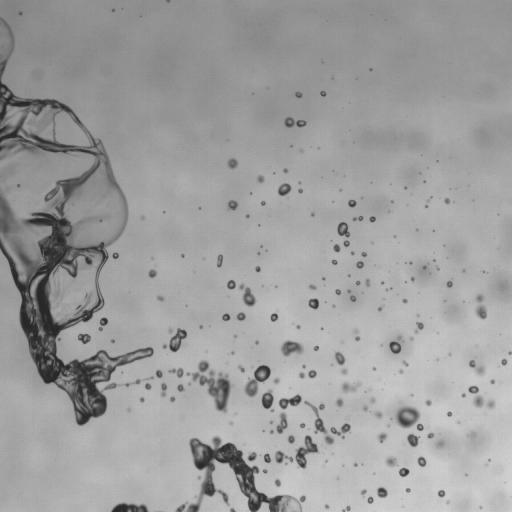droplet: (389, 406, 429, 431), (162, 327, 188, 352), (280, 339, 304, 356), (468, 359, 485, 377), (406, 432, 420, 447), (277, 182, 291, 196), (337, 222, 350, 237), (384, 455, 399, 467), (388, 341, 401, 354), (376, 486, 388, 498), (308, 298, 319, 310), (78, 333, 90, 344), (227, 158, 238, 169), (376, 432, 387, 443), (14, 88, 25, 99), (5, 151, 16, 162), (83, 154, 94, 165), (69, 167, 80, 178), (275, 173, 286, 184), (4, 175, 15, 186), (4, 193, 15, 204), (37, 201, 48, 212), (409, 264, 420, 275), (355, 268, 366, 279), (232, 287, 243, 298), (10, 289, 21, 300), (10, 316, 21, 327), (75, 321, 86, 332), (17, 333, 28, 344), (301, 340, 312, 351), (229, 355, 240, 366), (26, 360, 37, 371), (138, 368, 149, 379), (166, 374, 177, 385), (150, 377, 161, 388), (256, 381, 267, 392), (227, 388, 238, 399), (204, 395, 215, 406), (62, 398, 73, 409), (324, 398, 335, 409), (414, 401, 425, 412), (65, 409, 76, 420), (304, 414, 315, 425), (304, 424, 315, 435), (312, 432, 323, 443), (294, 436, 305, 447), (285, 445, 296, 456), (411, 445, 422, 456), (380, 446, 391, 457), (183, 453, 194, 464), (253, 456, 264, 467), (407, 460, 418, 471), (220, 462, 231, 473), (252, 474, 263, 485), (211, 476, 222, 487), (191, 480, 202, 491), (230, 485, 241, 496), (398, 467, 410, 477), (227, 200, 238, 210), (414, 322, 423, 334), (466, 430, 477, 439), (417, 456, 426, 467), (434, 439, 443, 449), (270, 310, 278, 321), (335, 397, 343, 408), (148, 269, 157, 278), (236, 312, 245, 321), (109, 160, 118, 169), (7, 200, 16, 209), (350, 206, 359, 215), (335, 235, 344, 244), (104, 245, 113, 254), (413, 258, 422, 267), (351, 286, 360, 295), (340, 291, 349, 300), (469, 300, 478, 309), (241, 304, 250, 313), (91, 311, 100, 320), (11, 312, 20, 321), (483, 370, 492, 379), (345, 374, 354, 383), (179, 375, 188, 384), (95, 381, 104, 390), (166, 386, 175, 395), (340, 391, 349, 400), (253, 392, 262, 401), (391, 421, 400, 430), (407, 424, 416, 433), (282, 427, 291, 436), (304, 451, 313, 460), (254, 482, 263, 491), (265, 489, 274, 498), (212, 492, 221, 501), (263, 453, 271, 463), (256, 174, 264, 183), (227, 280, 235, 289), (237, 364, 245, 373), (155, 369, 163, 378), (308, 369, 316, 378), (437, 489, 445, 498), (0, 158, 6, 169), (258, 505, 269, 511), (329, 505, 340, 511), (363, 505, 374, 511), (348, 199, 356, 207), (222, 313, 230, 321), (287, 435, 295, 443), (176, 384, 185, 391), (274, 478, 281, 487), (294, 91, 302, 98), (333, 244, 340, 252), (356, 261, 364, 268), (397, 334, 404, 342), (366, 495, 373, 503), (0, 34, 5, 45), (308, 284, 317, 290), (360, 489, 366, 498), (112, 252, 119, 259), (377, 304, 384, 311), (298, 371, 305, 378), (272, 377, 279, 384), (369, 396, 376, 403), (2, 68, 9, 75), (29, 92, 36, 99), (105, 148, 112, 155), (20, 149, 27, 156), (221, 161, 228, 168), (114, 176, 121, 183), (48, 181, 55, 188), (289, 187, 296, 194), (125, 196, 132, 203), (126, 200, 133, 207), (126, 215, 133, 222), (362, 216, 369, 223), (331, 251, 338, 258), (3, 263, 10, 270), (427, 263, 434, 270), (5, 271, 12, 278), (6, 274, 13, 281), (310, 291, 317, 298), (101, 292, 108, 299), (480, 299, 487, 306), (229, 313, 236, 320), (473, 315, 480, 322), (58, 329, 65, 336), (280, 335, 287, 342), (289, 335, 296, 342), (275, 348, 282, 355), (289, 350, 296, 357), (55, 351, 62, 358), (202, 354, 209, 361), (474, 359, 481, 366), (121, 363, 128, 370), (334, 363, 341, 370), (191, 365, 198, 372), (161, 369, 168, 376), (268, 372, 275, 379), (35, 375, 42, 382), (227, 376, 234, 383), (202, 382, 209, 389), (102, 389, 109, 396), (173, 390, 180, 397), (241, 392, 248, 399), (285, 392, 292, 399), (468, 392, 475, 399), (271, 399, 278, 406), (367, 402, 374, 409), (480, 403, 487, 410), (487, 407, 494, 414), (215, 409, 222, 416), (317, 409, 324, 416), (390, 410, 397, 417), (369, 414, 376, 421), (88, 415, 95, 422), (273, 417, 280, 424), (322, 421, 329, 428), (301, 428, 308, 435), (212, 429, 219, 436), (235, 443, 242, 450), (184, 446, 191, 453), (289, 450, 296, 457), (389, 450, 396, 457), (241, 453, 248, 460), (269, 453, 276, 460), (379, 456, 386, 463), (246, 460, 253, 467), (392, 465, 399, 472), (199, 467, 206, 474), (370, 490, 377, 497), (202, 494, 209, 501), (372, 494, 379, 501), (124, 497, 131, 504), (190, 497, 197, 504), (134, 499, 141, 506), (109, 500, 116, 507), (343, 240, 349, 248), (446, 279, 452, 287), (156, 295, 164, 301), (501, 358, 507, 366), (342, 505, 350, 511), (365, 278, 370, 287), (506, 355, 511, 364), (220, 506, 229, 511), (241, 506, 250, 511), (444, 197, 450, 204), (330, 259, 337, 265), (334, 289, 341, 295), (425, 399, 431, 406), (299, 422, 306, 428), (427, 432, 434, 438), (168, 326, 173, 334), (320, 91, 326, 97), (369, 216, 375, 222), (254, 266, 260, 272), (313, 345, 319, 351), (446, 411, 452, 417), (227, 419, 233, 425), (0, 24, 4, 33), (361, 252, 367, 257), (410, 276, 415, 282), (139, 397, 145, 402), (170, 396, 175, 402), (324, 504, 329, 510), (197, 507, 204, 511), (283, 168, 288, 173), (260, 200, 265, 205), (140, 215, 145, 220), (355, 280, 360, 285), (402, 298, 407, 303), (409, 336, 414, 341), (254, 340, 259, 345), (398, 369, 403, 374), (490, 379, 495, 384), (461, 392, 466, 397), (353, 462, 358, 467), (262, 468, 267, 473), (405, 488, 410, 493), (3, 16, 8, 21), (6, 19, 11, 24), (10, 26, 15, 31), (13, 35, 18, 40), (13, 41, 18, 46), (1, 79, 6, 84), (297, 87, 302, 92), (47, 94, 52, 99), (39, 95, 44, 100), (63, 100, 68, 105), (288, 112, 293, 117), (293, 116, 298, 121), (280, 122, 285, 127), (292, 123, 297, 128), (86, 125, 91, 130), (300, 125, 305, 130), (286, 126, 291, 131), (234, 155, 239, 160), (233, 166, 238, 171), (259, 170, 264, 175), (63, 174, 68, 179), (252, 175, 257, 180), (263, 175, 268, 180), (287, 180, 292, 185), (255, 181, 260, 186), (0, 183, 5, 188), (298, 183, 303, 188), (273, 186, 278, 191), (273, 190, 278, 195), (286, 191, 291, 196), (39, 194, 44, 199), (281, 194, 286, 199), (232, 196, 237, 201), (224, 197, 229, 202), (439, 198, 444, 203), (223, 203, 228, 208), (235, 205, 240, 210), (352, 205, 357, 210), (127, 206, 132, 211), (349, 206, 354, 211), (228, 208, 233, 213), (127, 209, 132, 214), (354, 212, 359, 217), (27, 214, 32, 219), (124, 224, 129, 229), (332, 227, 337, 232), (120, 232, 125, 237), (341, 234, 346, 239), (117, 236, 122, 241), (329, 241, 334, 246), (338, 242, 343, 247), (259, 247, 264, 252), (329, 247, 334, 252), (107, 254, 112, 259), (359, 256, 364, 261), (212, 258, 217, 263), (221, 259, 226, 264), (149, 264, 154, 269), (153, 266, 158, 271), (425, 266, 430, 271), (143, 271, 148, 276), (145, 275, 150, 280), (152, 275, 157, 280), (405, 276, 410, 281), (97, 277, 102, 282), (360, 279, 365, 284), (368, 279, 373, 284), (222, 280, 227, 285), (311, 280, 316, 285), (451, 280, 456, 285), (234, 281, 239, 286), (243, 282, 248, 287), (240, 288, 245, 293), (249, 289, 254, 294), (350, 290, 355, 295), (159, 291, 164, 296), (345, 292, 350, 297), (471, 293, 476, 298), (151, 295, 156, 300), (163, 297, 168, 302), (317, 300, 322, 305), (253, 301, 258, 306), (381, 306, 386, 311), (220, 309, 225, 314), (485, 310, 490, 315), (106, 316, 111, 321), (417, 317, 422, 322), (239, 319, 244, 324), (106, 320, 111, 325), (422, 322, 427, 327), (202, 323, 207, 328), (412, 323, 417, 328), (102, 324, 107, 329), (171, 330, 176, 335), (409, 331, 414, 336), (89, 336, 94, 341), (391, 336, 396, 341), (164, 340, 169, 345), (141, 343, 146, 348), (384, 343, 389, 348), (101, 345, 106, 350), (230, 345, 235, 350), (129, 346, 134, 351), (165, 346, 170, 351), (385, 346, 390, 351), (152, 347, 157, 352), (176, 348, 181, 353), (90, 350, 95, 355), (152, 350, 157, 355), (342, 352, 347, 357), (394, 352, 399, 357), (467, 355, 472, 360), (77, 356, 82, 361), (140, 357, 145, 362), (62, 359, 67, 364), (332, 359, 337, 364), (258, 360, 263, 365), (264, 361, 269, 366), (342, 361, 347, 366), (464, 361, 469, 366), (241, 362, 246, 367), (267, 363, 272, 368), (252, 364, 257, 369), (400, 364, 405, 369), (115, 365, 120, 370), (469, 366, 474, 371), (235, 368, 240, 373), (346, 368, 351, 373), (393, 368, 398, 373), (303, 370, 308, 375), (110, 371, 115, 376), (294, 371, 299, 376), (171, 372, 176, 377), (395, 372, 400, 377), (137, 374, 142, 379), (187, 374, 192, 379), (131, 376, 136, 381), (296, 376, 301, 381), (311, 376, 316, 381), (493, 376, 498, 381), (147, 379, 152, 384), (278, 379, 283, 384), (140, 380, 145, 385), (49, 381, 54, 386), (468, 381, 473, 386), (182, 383, 187, 388), (356, 386, 361, 391), (476, 390, 481, 395), (366, 392, 371, 397), (134, 396, 139, 401), (300, 396, 305, 401), (332, 396, 337, 401), (430, 398, 435, 403), (105, 399, 110, 404), (342, 399, 347, 404), (257, 400, 262, 405), (298, 400, 303, 405), (139, 401, 144, 406), (494, 401, 499, 406), (314, 402, 319, 407), (358, 403, 363, 408), (333, 404, 338, 409), (323, 405, 328, 410), (426, 405, 431, 410), (364, 410, 369, 415), (231, 416, 236, 421), (285, 416, 290, 421), (416, 418, 421, 423), (72, 421, 77, 426), (311, 425, 316, 430), (349, 425, 354, 430), (335, 426, 340, 431), (376, 429, 381, 434), (343, 431, 348, 436), (190, 433, 195, 438), (311, 438, 316, 443), (382, 438, 387, 443), (416, 438, 421, 443), (404, 440, 409, 445), (327, 443, 332, 448), (316, 444, 321, 449), (424, 456, 429, 461), (281, 457, 286, 462), (292, 460, 297, 465), (398, 463, 403, 468), (252, 472, 257, 477), (405, 473, 410, 478), (279, 478, 284, 483), (270, 481, 275, 486), (378, 482, 383, 487), (383, 484, 388, 489), (358, 485, 363, 490), (436, 485, 441, 490), (222, 487, 227, 492), (364, 492, 369, 497), (433, 492, 438, 497), (295, 494, 300, 499), (441, 495, 446, 500), (243, 496, 248, 501), (379, 496, 384, 501), (227, 497, 232, 502), (304, 497, 309, 502), (300, 501, 305, 506), (175, 502, 180, 507), (341, 503, 346, 508), (145, 504, 150, 509), (298, 188, 302, 193), (310, 212, 314, 217), (435, 265, 439, 270), (198, 325, 203, 329), (126, 407, 130, 412), (269, 429, 273, 434), (455, 420, 461, 423), (18, 11, 22, 15), (299, 148, 303, 152), (245, 214, 249, 218), (350, 251, 354, 255), (150, 256, 154, 260), (422, 265, 426, 269), (233, 334, 237, 338), (110, 339, 114, 343), (372, 366, 376, 370), (269, 420, 273, 424), (386, 423, 390, 427), (478, 505, 482, 509), (508, 350, 511, 355), (302, 364, 305, 369), (225, 508, 230, 511), (323, 508, 328, 511), (475, 508, 480, 511), (479, 508, 484, 511), (112, 8, 115, 12), (422, 180, 426, 183), (390, 200, 394, 203), (257, 251, 260, 255), (409, 261, 412, 265), (462, 268, 465, 272), (321, 277, 325, 280), (380, 281, 384, 284), (332, 304, 335, 308), (448, 352, 451, 356), (464, 473, 468, 476), (165, 0, 170, 2), (0, 250, 2, 255), (369, 68, 372, 71), (298, 181, 301, 184), (17, 184, 20, 187), (404, 186, 407, 189), (339, 188, 342, 191), (360, 196, 363, 199), (331, 200, 334, 203), (198, 206, 201, 209), (162, 210, 165, 213), (393, 235, 396, 238), (347, 274, 350, 277), (443, 299, 446, 302), (416, 314, 419, 317), (320, 327, 323, 330), (436, 358, 439, 361), (330, 363, 333, 366), (234, 412, 237, 415), (262, 429, 265, 432), (307, 428, 310, 431), (284, 462, 287, 465), (372, 472, 375, 475), (336, 476, 339, 479), (164, 1, 167, 4), (108, 7, 111, 10), (19, 8, 22, 11), (114, 8, 117, 11), (15, 11, 18, 14), (21, 11, 24, 14), (111, 11, 114, 14), (17, 14, 20, 17), (368, 64, 371, 67), (369, 70, 372, 73), (321, 87, 324, 90), (317, 89, 320, 92), (324, 94, 327, 97), (293, 95, 296, 98), (319, 95, 322, 98), (78, 117, 81, 120), (305, 122, 308, 125), (289, 141, 292, 144), (435, 156, 438, 159), (438, 159, 441, 162), (286, 166, 289, 169), (280, 167, 283, 170), (272, 168, 275, 171), (269, 171, 272, 174), (281, 171, 284, 174), (423, 177, 426, 180), (16, 180, 19, 183), (284, 180, 287, 183), (423, 182, 426, 185), (13, 183, 16, 186), (19, 184, 22, 187), (406, 184, 409, 187), (400, 185, 403, 188), (15, 186, 18, 189), (249, 188, 252, 191), (405, 188, 408, 191), (302, 189, 305, 192), (340, 190, 343, 193), (246, 192, 249, 195), (251, 192, 254, 195), (298, 192, 301, 195), (429, 192, 432, 195), (426, 195, 429, 198), (350, 196, 353, 199), (389, 196, 392, 199), (261, 197, 264, 200), (429, 198, 432, 201), (258, 199, 261, 202), (264, 199, 267, 202), (393, 199, 396, 202), (449, 199, 452, 202), (387, 200, 390, 203), (391, 202, 394, 205), (426, 202, 429, 205), (196, 203, 199, 206), (258, 203, 261, 206), (262, 204, 265, 207), (421, 204, 424, 207), (162, 207, 165, 210), (195, 207, 198, 210), (200, 207, 203, 210), (424, 207, 427, 210), (159, 209, 162, 212), (164, 211, 167, 214), (244, 211, 247, 214), (248, 212, 251, 215), (307, 212, 310, 215), (314, 212, 317, 215), (359, 212, 362, 215), (371, 213, 374, 216), (242, 215, 245, 218), (248, 215, 251, 218), (309, 215, 312, 218), (339, 219, 342, 222), (342, 219, 345, 222), (360, 219, 363, 222), (257, 220, 260, 223), (371, 221, 374, 224), (255, 225, 258, 228), (412, 227, 415, 230), (429, 228, 432, 231), (434, 228, 437, 231), (392, 231, 395, 234), (431, 231, 434, 234), (395, 235, 398, 238), (390, 236, 393, 239), (346, 245, 349, 248), (363, 249, 366, 252), (180, 250, 183, 253), (117, 251, 120, 254), (217, 251, 220, 254), (366, 252, 369, 255), (254, 253, 257, 256), (348, 253, 351, 256), (183, 254, 186, 257), (179, 256, 182, 259), (430, 256, 433, 259), (434, 256, 437, 259), (115, 257, 118, 260), (409, 258, 412, 261), (336, 260, 339, 263), (406, 260, 409, 263), (432, 261, 435, 264), (329, 262, 332, 265), (411, 262, 414, 265), (422, 262, 425, 265), (353, 263, 356, 266), (426, 264, 429, 267), (437, 264, 440, 267), (217, 266, 220, 269), (259, 266, 262, 269), (419, 266, 422, 269), (356, 267, 359, 270), (359, 267, 362, 270), (433, 267, 436, 270), (439, 267, 442, 270), (459, 267, 462, 270), (480, 267, 483, 270), (252, 268, 255, 271), (484, 268, 487, 271), (256, 271, 259, 274), (345, 271, 348, 274), (479, 271, 482, 274), (483, 272, 486, 275), (324, 276, 327, 279), (346, 276, 349, 279), (227, 277, 230, 280), (356, 277, 359, 280), (379, 278, 382, 281), (445, 278, 448, 281), (320, 279, 323, 282), (383, 279, 386, 282), (377, 281, 380, 284), (272, 282, 275, 285), (402, 282, 405, 285), (443, 282, 446, 285), (353, 283, 356, 286), (391, 284, 394, 287), (386, 285, 389, 288), (337, 286, 340, 289), (449, 286, 452, 289), (274, 287, 277, 290), (229, 288, 232, 291), (387, 288, 390, 291), (340, 289, 343, 292), (334, 293, 337, 296), (403, 295, 406, 298), (103, 298, 106, 301), (157, 299, 160, 302), (348, 299, 351, 302), (354, 299, 357, 302), (382, 300, 385, 303), (305, 301, 308, 304), (351, 301, 354, 304), (334, 302, 337, 305), (403, 302, 406, 305), (376, 304, 379, 307), (310, 307, 313, 310), (332, 307, 335, 310), (374, 307, 377, 310), (271, 310, 274, 313), (276, 312, 279, 315), (228, 313, 231, 316), (267, 316, 270, 319), (221, 319, 224, 322), (226, 319, 229, 322), (199, 321, 202, 324), (298, 322, 301, 325), (97, 323, 100, 326), (292, 324, 295, 327), (322, 325, 325, 328), (179, 326, 182, 329), (196, 326, 199, 329), (299, 326, 302, 329), (317, 326, 320, 329), (184, 328, 187, 331), (199, 328, 202, 331), (296, 328, 299, 331), (320, 329, 323, 332), (81, 331, 84, 334), (232, 331, 235, 334), (356, 333, 359, 336), (112, 336, 115, 339), (230, 336, 233, 339), (235, 336, 238, 339), (351, 336, 354, 339), (359, 336, 362, 339), (114, 339, 117, 342), (353, 339, 356, 342), (357, 339, 360, 342), (258, 340, 261, 343), (397, 340, 400, 343), (86, 341, 89, 344), (314, 342, 317, 345), (252, 343, 255, 346), (256, 343, 259, 346), (318, 345, 321, 348), (400, 346, 403, 349), (228, 349, 231, 352), (399, 349, 402, 352), (313, 350, 316, 353), (228, 353, 231, 356), (444, 353, 447, 356), (145, 356, 148, 359), (134, 359, 137, 362), (405, 359, 408, 362), (498, 361, 501, 364), (505, 362, 508, 365), (374, 364, 377, 367), (169, 366, 172, 369), (175, 366, 178, 369), (369, 367, 372, 370), (375, 367, 378, 370), (314, 368, 317, 371), (372, 370, 375, 373), (182, 371, 185, 374), (315, 372, 318, 375), (153, 374, 156, 377), (490, 376, 493, 379), (123, 380, 126, 383), (487, 380, 490, 383), (494, 380, 497, 383), (134, 383, 137, 386), (475, 383, 478, 386), (490, 383, 493, 386), (122, 384, 125, 387), (128, 384, 131, 387), (115, 385, 118, 388), (144, 388, 147, 391), (410, 390, 413, 393), (298, 392, 301, 395), (458, 393, 461, 396), (143, 396, 146, 399), (143, 399, 146, 402), (173, 399, 176, 402), (322, 401, 325, 404), (450, 409, 453, 412), (451, 412, 454, 415), (444, 414, 447, 417), (459, 418, 462, 421), (299, 420, 302, 423), (347, 421, 350, 424), (456, 423, 459, 426), (296, 424, 299, 427), (259, 427, 262, 430), (467, 430, 470, 433), (467, 436, 470, 439), (427, 437, 430, 440), (376, 440, 379, 443), (379, 442, 382, 445), (280, 449, 283, 452), (264, 450, 267, 453), (484, 458, 487, 461), (490, 458, 493, 461), (327, 459, 330, 462), (321, 460, 324, 463), (351, 460, 354, 463), (487, 461, 490, 464), (325, 462, 328, 465), (350, 463, 353, 466), (357, 463, 360, 466), (417, 464, 420, 467), (404, 465, 407, 468), (299, 466, 302, 469), (354, 466, 357, 469), (465, 470, 468, 473), (396, 472, 399, 475), (461, 472, 464, 475), (463, 475, 466, 478), (406, 484, 409, 487), (402, 488, 405, 491), (410, 488, 413, 491), (444, 490, 447, 493), (405, 491, 408, 494), (408, 491, 411, 494), (371, 501, 374, 504), (448, 501, 451, 504), (327, 502, 330, 505), (346, 502, 349, 505), (366, 502, 369, 505), (480, 503, 483, 506), (158, 507, 161, 510), (233, 507, 236, 510), (250, 191, 252, 195), (325, 459, 327, 463), (331, 76, 333, 79), (290, 145, 293, 147), (388, 210, 390, 213), (416, 228, 418, 231), (371, 241, 373, 244), (433, 259, 436, 261), (404, 280, 406, 283), (261, 284, 263, 287), (274, 285, 277, 287), (382, 298, 385, 300), (462, 300, 465, 302), (380, 344, 383, 346), (205, 349, 207, 352), (251, 365, 253, 368), (121, 371, 123, 374), (342, 463, 344, 466), (360, 463, 363, 465), (509, 348, 511, 351), (338, 509, 341, 511), (317, 147, 319, 149), (436, 160, 438, 162), (273, 172, 275, 174), (419, 172, 421, 174), (497, 213, 499, 215), (258, 224, 260, 226), (432, 229, 434, 231), (260, 245, 262, 247), (443, 244, 445, 246), (265, 249, 267, 251), (427, 262, 429, 264), (429, 272, 431, 274), (324, 301, 326, 303), (185, 304, 187, 306), (208, 325, 210, 327), (169, 0, 172, 1), (404, 261, 405, 263), (364, 391, 366, 392), (259, 454, 260, 456), (504, 481, 505, 483)
ligament: (277, 393, 350, 448), (168, 359, 234, 413), (243, 365, 273, 397), (468, 385, 495, 410), (238, 282, 257, 306), (0, 163, 21, 182), (110, 502, 150, 511), (334, 351, 348, 376), (260, 388, 274, 412), (362, 404, 383, 419), (475, 293, 487, 319), (340, 380, 362, 393), (275, 411, 287, 434), (284, 117, 306, 127), (98, 317, 108, 331), (347, 289, 356, 301), (160, 382, 167, 397), (352, 328, 360, 341), (424, 196, 433, 207), (216, 254, 223, 267), (400, 359, 409, 367), (292, 322, 301, 329), (352, 216, 363, 221), (484, 458, 490, 466), (385, 286, 392, 291), (227, 350, 235, 354), (180, 253, 185, 258), (481, 270, 488, 273), (407, 393, 414, 396), (446, 499, 449, 505), (153, 510, 163, 511)
